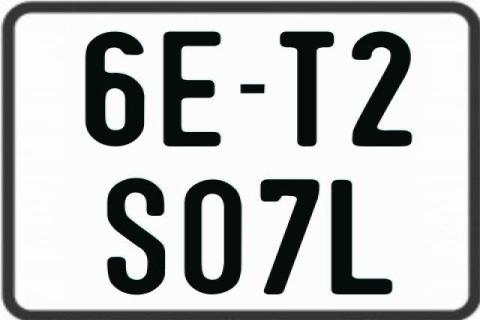0: (85, 29, 148, 145), (349, 30, 410, 148), (260, 177, 320, 293), (183, 178, 242, 294)
E: (163, 29, 227, 145)
L: (330, 178, 394, 292)
S: (105, 176, 168, 294)
T: (280, 31, 340, 146)
